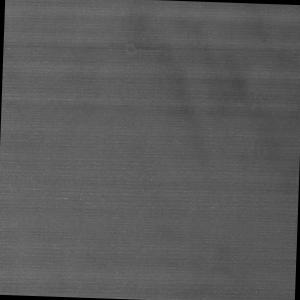Wrinkle: (107, 1, 300, 192)
